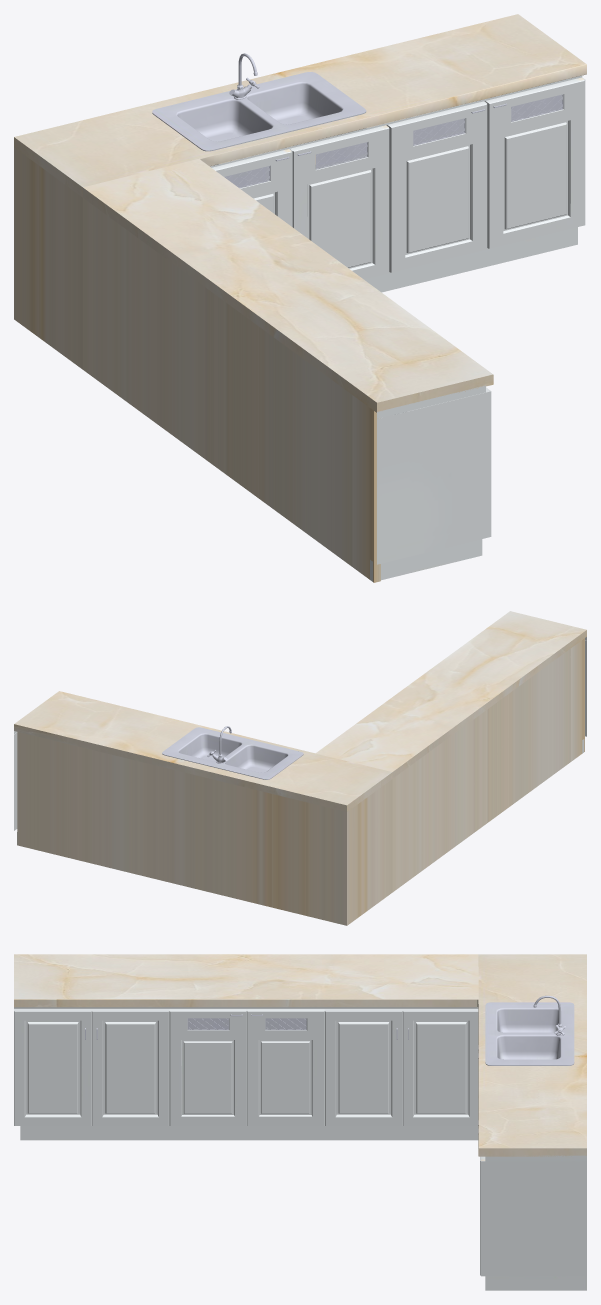
Rendered from aws_KitchenCabinet_01_visual.DAE.
3 renders of one model, top to bottom at view 1: azimuth 30°, elevation 25°; view 2: azimuth 150°, elevation 25°; view 3: azimuth 270°, elevation 25°, orthographic. The views are drawn at different scales.
Visible parts, largest first — view 1: aws_KitchenCabinet_01_visual; view 2: aws_KitchenCabinet_01_visual; view 3: aws_KitchenCabinet_01_visual.
Part boxes in pixels (box(x1,y1,x2,y2)): aws_KitchenCabinet_01_visual: box(14, 14, 586, 582); aws_KitchenCabinet_01_visual: box(14, 611, 586, 925); aws_KitchenCabinet_01_visual: box(14, 954, 586, 1290).
Size of the model in its own units: 258 by 322 by 113.
1 material, 1 textured.
